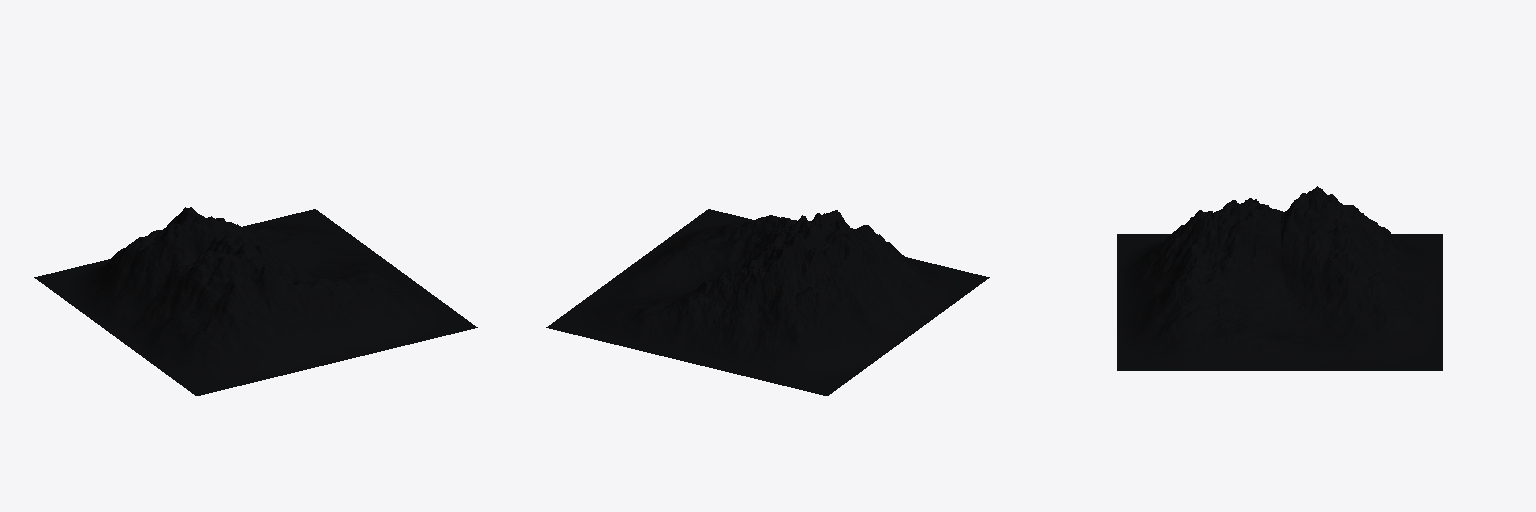
File: ocean_floor_simple.obj
3 views of the same model, side by side, from view 1: azimuth 30°, elevation 25°; view 2: azimuth 150°, elevation 25°; view 3: azimuth 270°, elevation 25° (orthographic).
Parts seen in each view (by area): view 1: Landscape; view 2: Landscape; view 3: Landscape.
Boxes of the visible parts, x1,y1,x2,y2 form: Landscape: [34, 207, 477, 395]; Landscape: [546, 209, 989, 395]; Landscape: [1117, 186, 1442, 370].
Bounding box in the file's own units: 20 × 6.34 × 20.